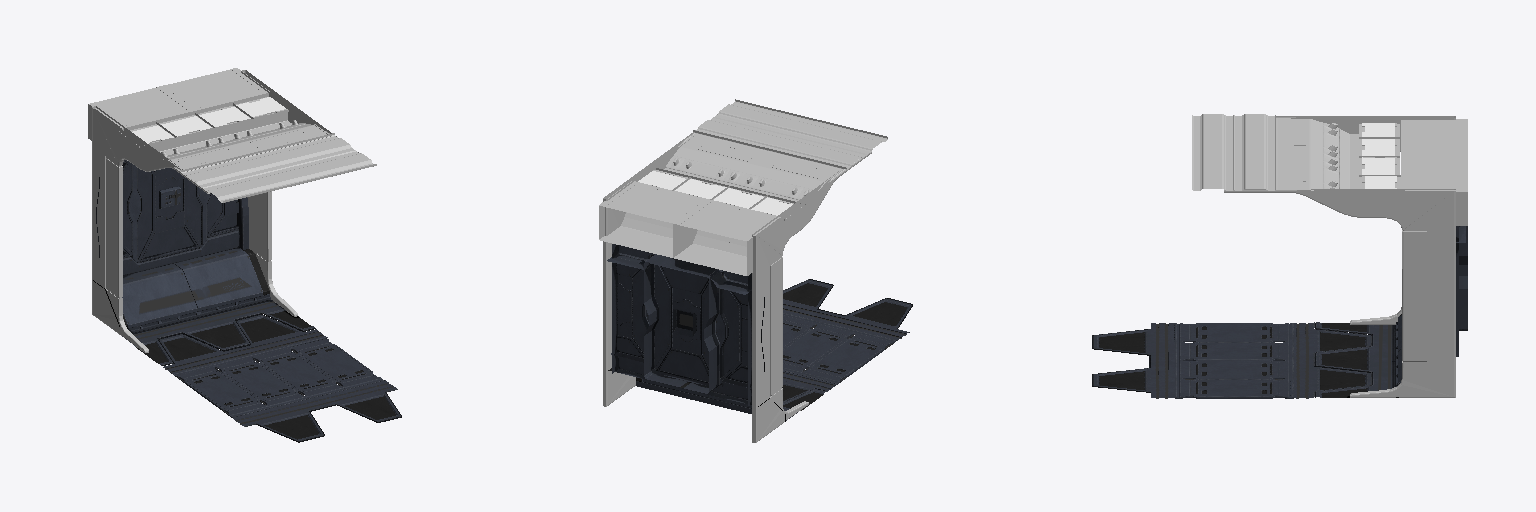
3 views of the same model, side by side, from view 1: azimuth 30°, elevation 25°; view 2: azimuth 150°, elevation 25°; view 3: azimuth 270°, elevation 25° (orthographic).
Visible parts, largest first — view 1: polySurface188.001_matt2.002_0, polySurface203.002_mat3.001_0, polySurface143.002_matt2.002_0, polySurface195.002_mat3.001_0, polySurface161.002_mat3.001_0.001, polySurface160.005_mat3.001_0, polySurface161.005_mat3.001_0, polySurface188.002_matt2.002_0, polySurface198.002_matt2.002_0, polySurface187.002_matt2.002_0, polySurface149.002_mat3.001_0, polySurface179.002_matt2.002_0 (+11 smaller); view 2: polySurface195.002_mat3.001_0, polySurface188.001_matt2.002_0, polySurface143.002_matt2.002_0, polySurface198.002_matt2.002_0, polySurface179.002_matt2.002_0, polySurface161.002_mat3.001_0.001, polySurface187.002_matt2.002_0, polySurface197.002_matt2.002_0, polySurface188.002_matt2.002_0, polySurface189.002_mat3.001_0, polySurface204.002_mat3.001_0, polySurface149.002_mat3.001_0 (+11 smaller); view 3: polySurface188.002_matt2.002_0, polySurface143.002_matt2.002_0, polySurface161.002_mat3.001_0.001, polySurface161.005_mat3.001_0, polySurface160.005_mat3.001_0, polySurface197.002_matt2.002_0, polySurface179.002_matt2.002_0, polySurface187.002_matt2.002_0, polySurface178.002_mat3.001_0, polySurface149.002_mat3.001_0, polySurface177.002_mat3.001_0, polySurface198.002_matt2.002_0 (+5 smaller).
Part boxes in pixels (bbox=[...]): polySurface188.001_matt2.002_0: bbox=[92, 106, 210, 352]; polySurface203.002_mat3.001_0: bbox=[93, 248, 269, 328]; polySurface143.002_matt2.002_0: bbox=[181, 133, 376, 202]; polySurface195.002_mat3.001_0: bbox=[137, 168, 201, 262]; polySurface161.002_mat3.001_0.001: bbox=[232, 380, 401, 442]; polySurface160.005_mat3.001_0: bbox=[122, 300, 315, 365]; polySurface161.005_mat3.001_0: bbox=[159, 314, 327, 375]; polySurface188.002_matt2.002_0: bbox=[241, 70, 358, 316]; polySurface198.002_matt2.002_0: bbox=[88, 86, 193, 140]; polySurface187.002_matt2.002_0: bbox=[216, 112, 330, 153]; polySurface149.002_mat3.001_0: bbox=[174, 364, 269, 417]; polySurface179.002_matt2.002_0: bbox=[163, 68, 266, 108]; polySurface195.002_mat3.001_0: bbox=[644, 254, 718, 393]; polySurface188.001_matt2.002_0: bbox=[752, 152, 871, 442]; polySurface143.002_matt2.002_0: bbox=[693, 99, 887, 169]; polySurface198.002_matt2.002_0: bbox=[673, 200, 778, 275]; polySurface179.002_matt2.002_0: bbox=[599, 182, 703, 257]; polySurface161.002_mat3.001_0.001: bbox=[783, 279, 912, 340]; polySurface187.002_matt2.002_0: bbox=[664, 133, 768, 186]; polySurface197.002_matt2.002_0: bbox=[737, 151, 842, 203]; polySurface188.002_matt2.002_0: bbox=[603, 114, 717, 406]; polySurface189.002_mat3.001_0: bbox=[615, 254, 646, 361]; polySurface204.002_mat3.001_0: bbox=[720, 283, 751, 387]; polySurface149.002_mat3.001_0: bbox=[799, 331, 895, 384]; polySurface188.002_matt2.002_0: bbox=[1224, 189, 1455, 397]; polySurface143.002_matt2.002_0: bbox=[1192, 114, 1275, 190]; polySurface161.002_mat3.001_0.001: bbox=[1092, 323, 1174, 398]; polySurface161.005_mat3.001_0: bbox=[1290, 323, 1370, 398]; polySurface160.005_mat3.001_0: bbox=[1314, 322, 1395, 397]; polySurface197.002_matt2.002_0: bbox=[1276, 118, 1358, 168]; polySurface179.002_matt2.002_0: bbox=[1405, 155, 1467, 225]; polySurface187.002_matt2.002_0: bbox=[1276, 154, 1358, 190]; polySurface178.002_mat3.001_0: bbox=[1175, 379, 1293, 398]; polySurface149.002_mat3.001_0: bbox=[1175, 323, 1293, 342]; polySurface177.002_mat3.001_0: bbox=[1175, 360, 1293, 378]; polySurface198.002_matt2.002_0: bbox=[1405, 119, 1467, 154].
Bounding box in the file's own units: 7.45 × 9.72 × 15.68.
Materials: 4 (1 with a texture image).